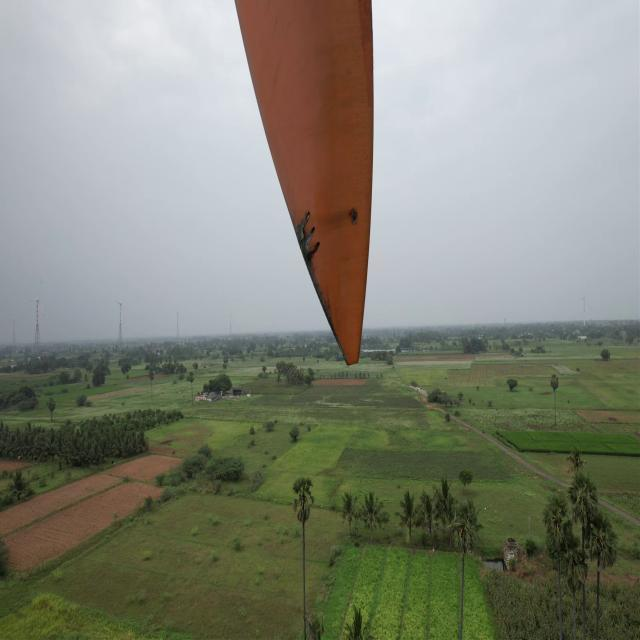Dirt: (258, 0, 375, 365)
Oil LEAKAGE: (294, 219, 342, 344)
Pin Hole: (302, 208, 322, 250), (345, 204, 361, 228)
